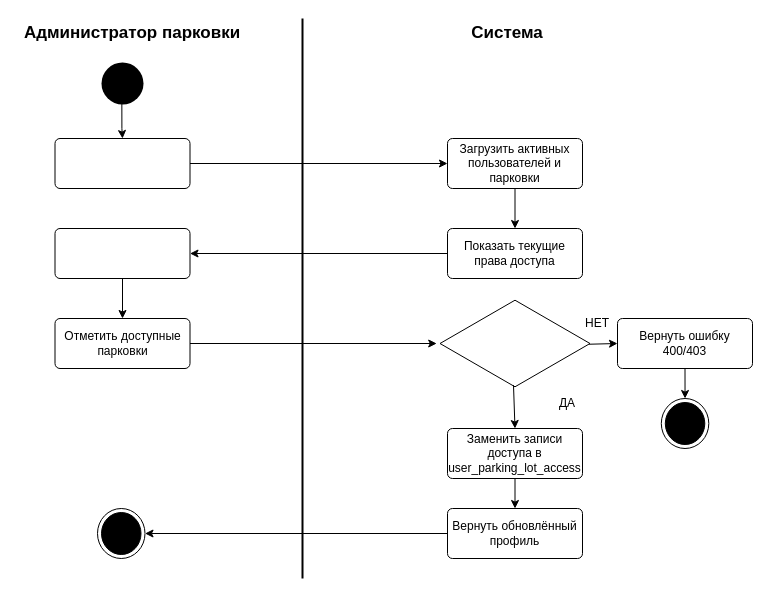
Image size: 770x596. Some labels were removed from this diagram. Each missing label, with the centre of its shape:
"Выбрать пользователя из списка" belongs at (x=122, y=253).
"Открыть раздел пользователей" belongs at (x=122, y=163).
"Список парковок валиден?" belongs at (x=514, y=343).
